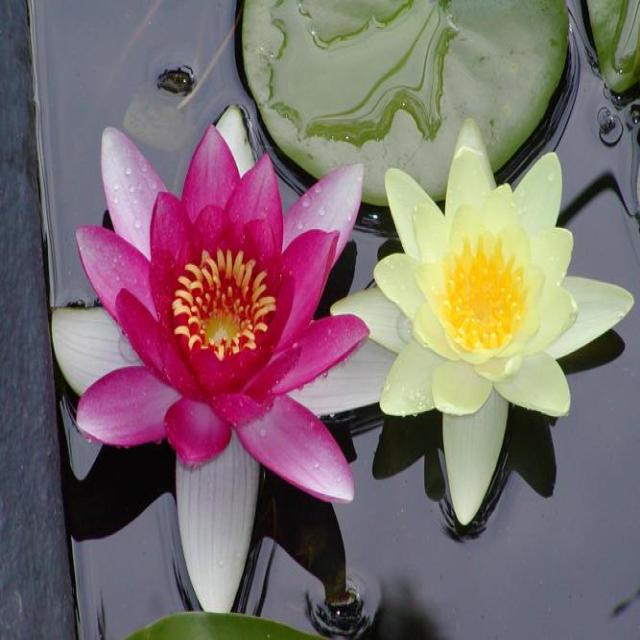water-lily: (63, 77, 374, 624), (319, 114, 640, 573)
